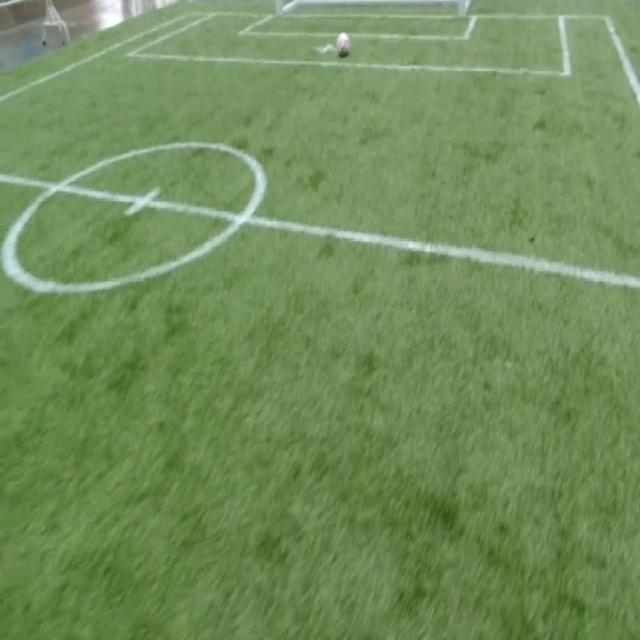ball: (338, 31, 349, 58)
goalpost: (456, 0, 468, 22), (274, 0, 285, 19)
